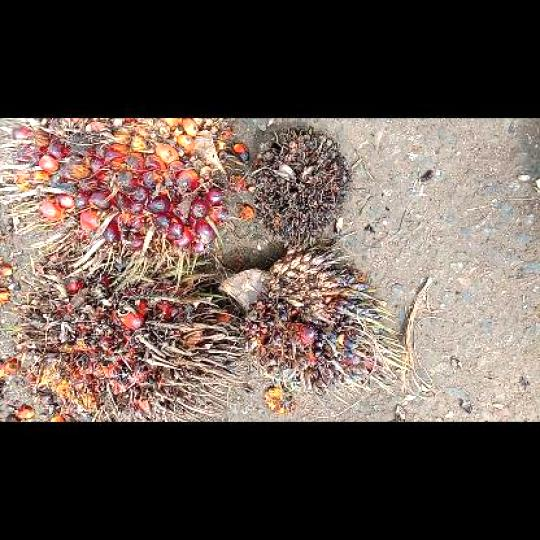masak: (2, 120, 237, 268)
terlalu masak: (10, 246, 246, 421)
